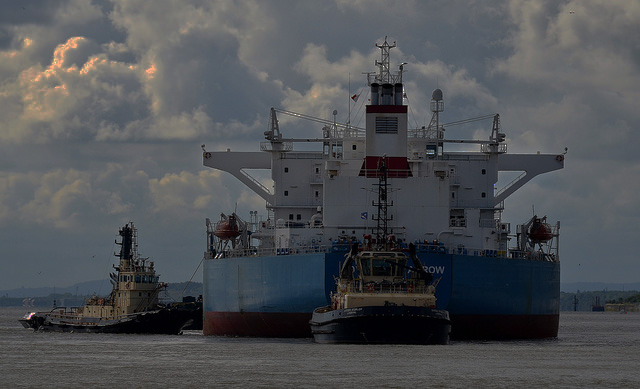tanker: (201, 41, 564, 345)
tug_boat: (306, 163, 457, 340), (22, 218, 194, 340)
